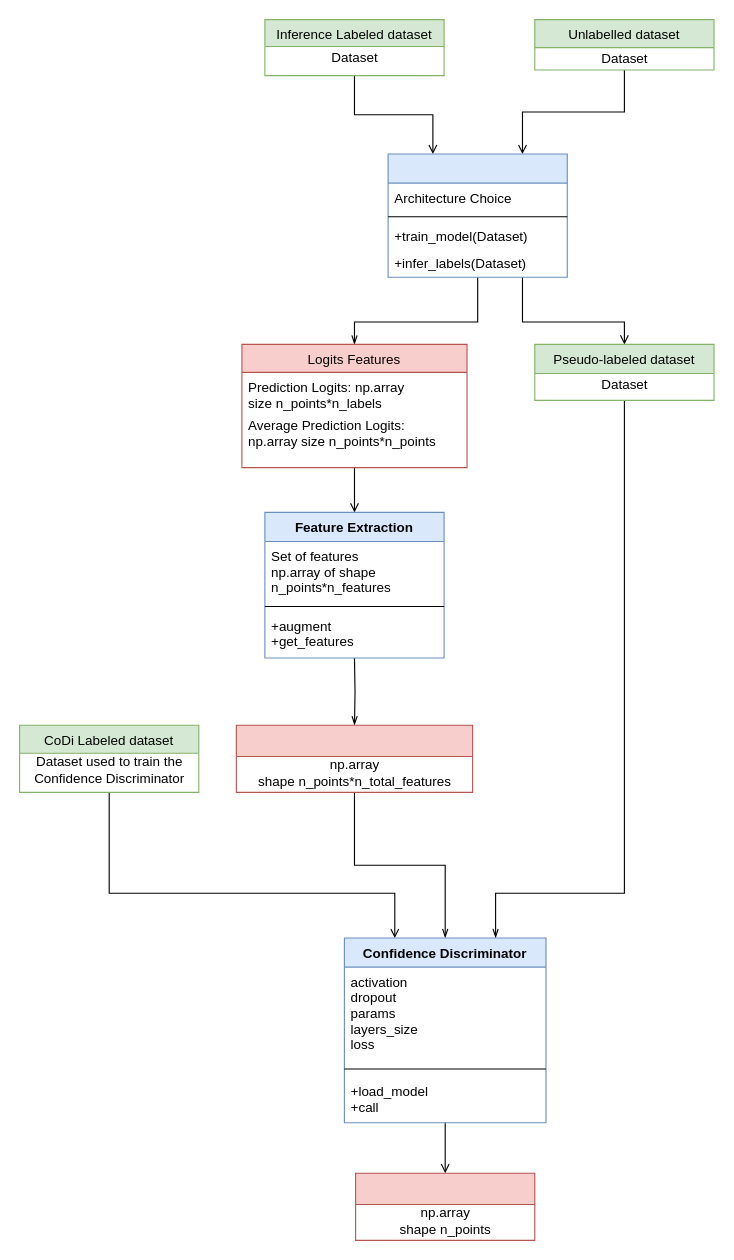
Some shapes in this 734 by 1260 pixel diagram are drawn without their labels. The shapes that lost their labels are listed below. From the top down, each one's box as (x1, y1, x2, y2) in pixels, then its label:
(387, 153, 567, 277): Inference Model
(235, 724, 473, 792): Aggregated feature set
(354, 1172, 535, 1240): Accepted or Rejected
